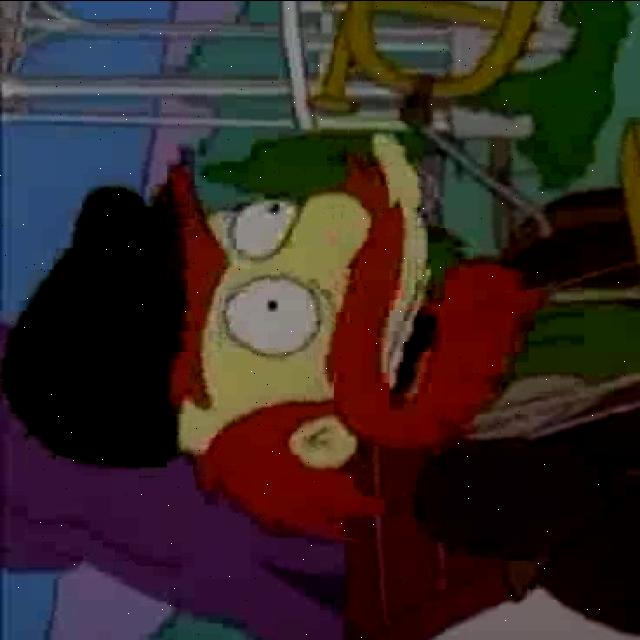Groundskeeper Willie: (168, 128, 542, 540)
